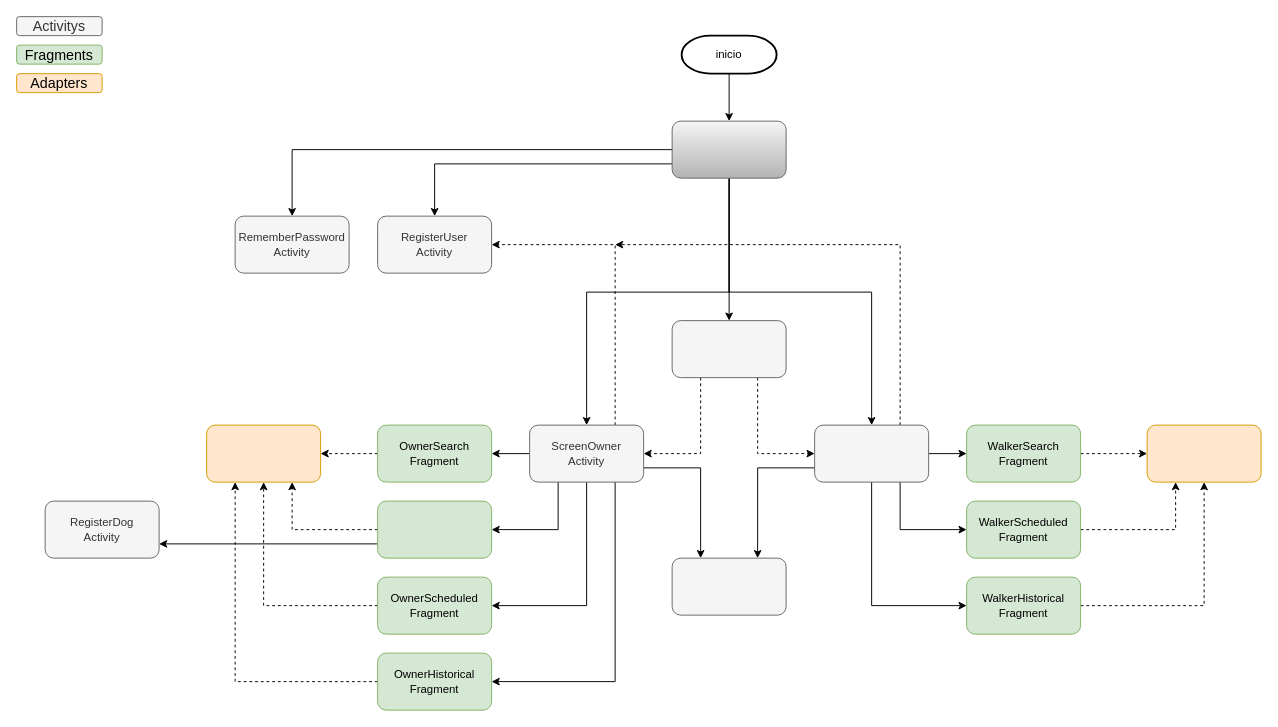
The diagram is 1278 pixels wide and 727 high, and some of its shapes have lost their labels. The shapes that lost their labels are listed below. From the top down, each one's centre as x and y in pixels, then its label:
pixel 728 149: LoginActivity
pixel 728 349: SelectProfile Activity
pixel 263 453: Owner Adapter
pixel 871 453: ScreenWalker Activity
pixel 1203 453: Walker Adapter
pixel 434 529: OwnerDog Fragment
pixel 728 586: ProfileViewSelected Activity
